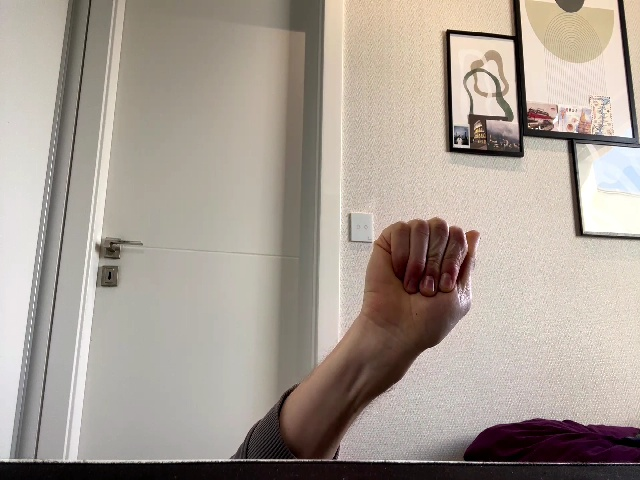A: (362, 217, 481, 349)
